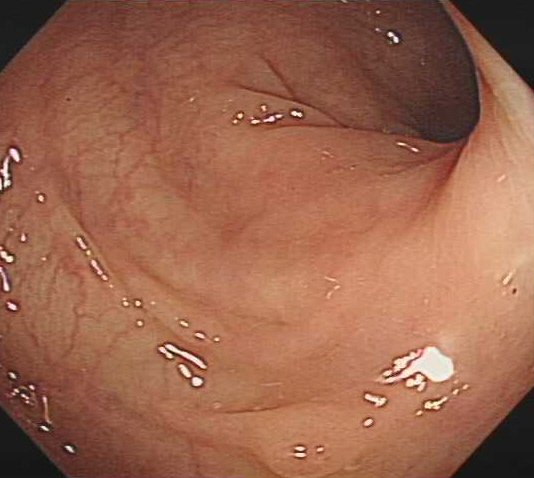adenoma: (230, 398, 373, 478)
